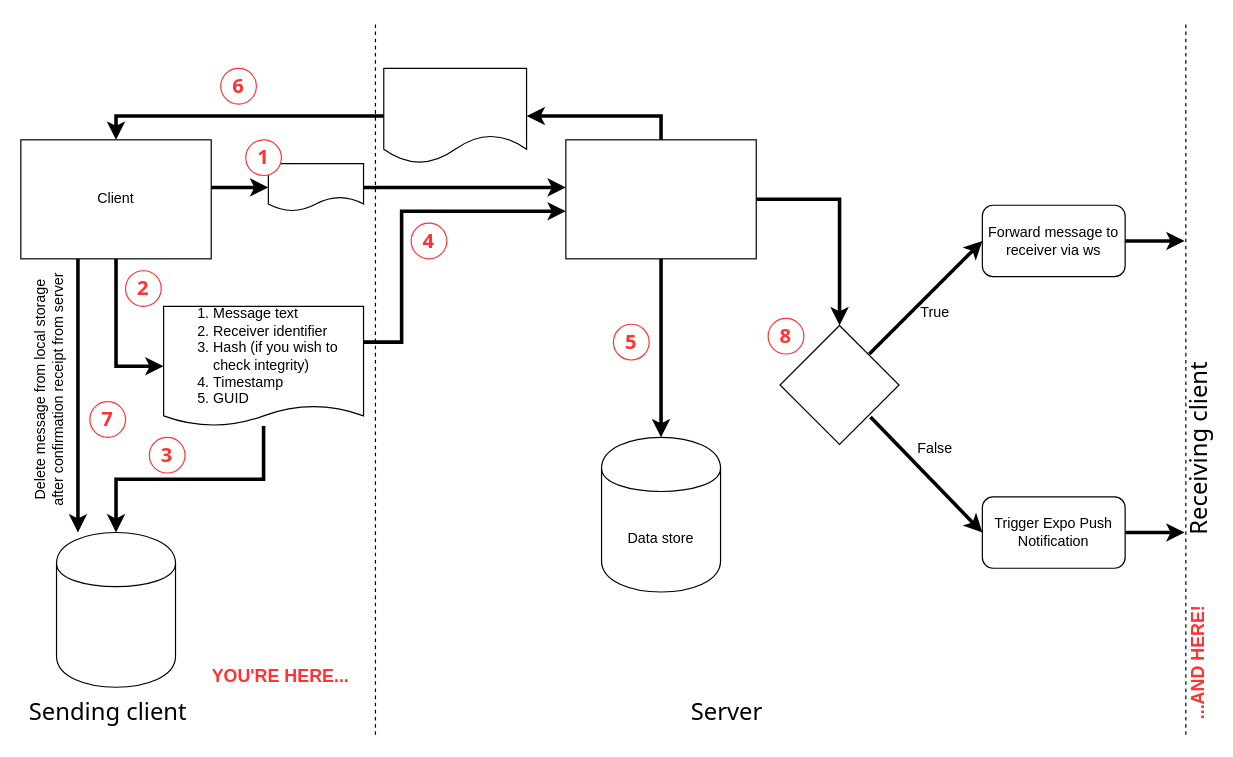
Some shapes in this 1233 by 757 pixel diagram are drawn without their labels. The shapes that lost their labels are listed below. From the top down, each one's box as (x1, y1, x2, y2) in pixels, then its label:
(383, 67, 527, 164): Message GUID received confirmation from server
(267, 162, 364, 211): user is online
(565, 139, 756, 259): WebSocket
(779, 324, 899, 444): Receiver is online
(55, 531, 176, 687): Local data store
